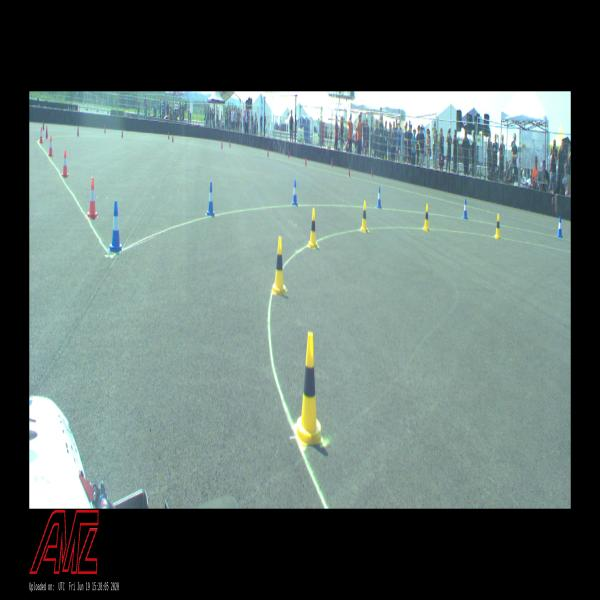blue_cone: (110, 200, 122, 252), (207, 182, 215, 216), (292, 180, 298, 205), (557, 217, 563, 238), (462, 199, 468, 219), (377, 187, 382, 208)
orange_cone: (87, 177, 98, 218), (61, 150, 69, 176), (48, 136, 54, 156), (39, 126, 43, 143)
unknown_cone: (46, 126, 48, 138), (77, 125, 79, 136), (104, 123, 106, 133), (121, 128, 123, 138), (304, 156, 306, 166), (331, 158, 333, 168), (371, 167, 373, 177), (172, 133, 174, 142), (221, 140, 223, 149), (267, 148, 269, 157), (229, 140, 231, 148), (43, 120, 44, 130), (349, 166, 350, 176), (168, 131, 169, 140), (288, 149, 289, 158)
yellow_cone: (295, 332, 324, 446), (272, 237, 286, 295), (308, 208, 317, 248), (361, 201, 367, 231), (424, 204, 430, 231), (495, 214, 500, 238)
